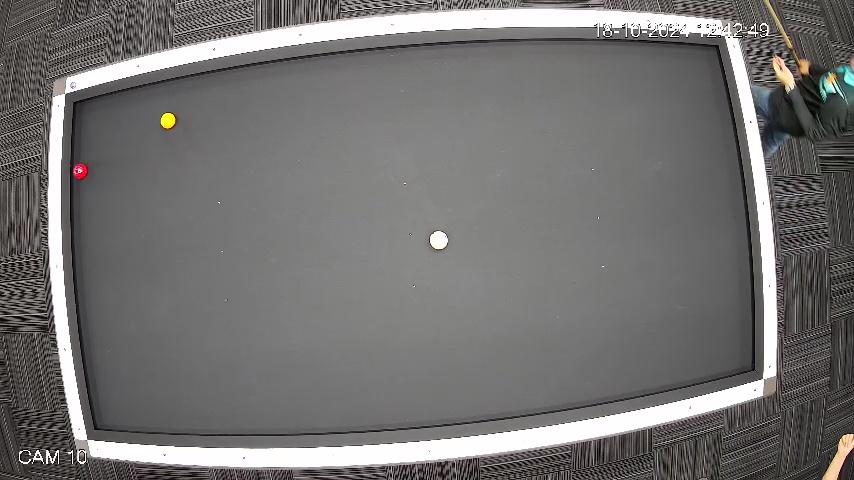Red: (72, 162, 88, 180)
White: (429, 229, 450, 251)
Yellow: (160, 111, 178, 131)
